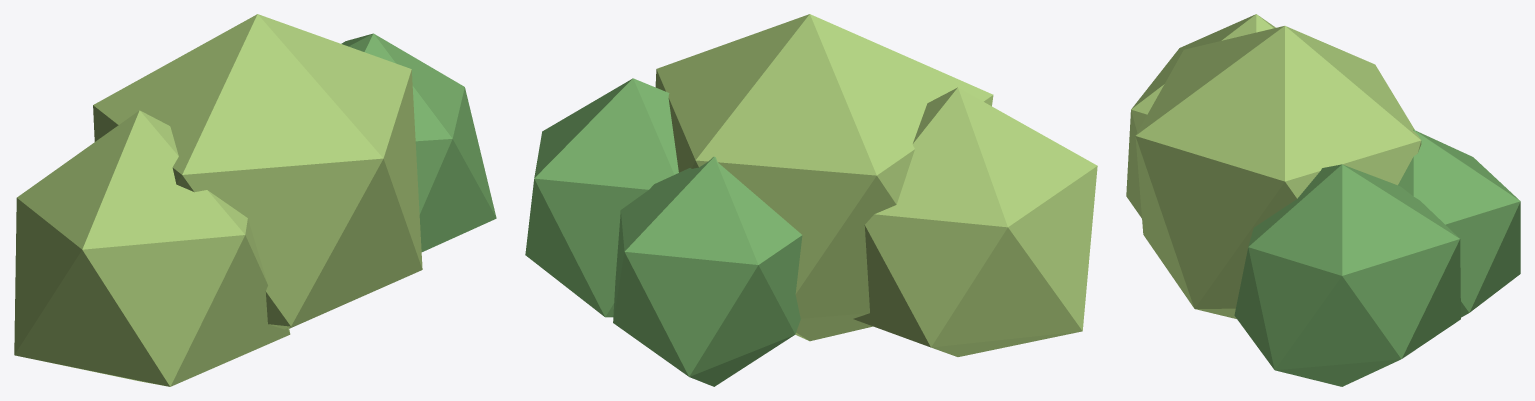
Rendered from bush.glb.
3 renders of one model, left to right at view 1: azimuth 30°, elevation 25°; view 2: azimuth 150°, elevation 25°; view 3: azimuth 270°, elevation 25°, orthographic. The views are drawn at different scales.
Parts seen in each view (by area): view 1: bush; view 2: bush; view 3: bush.
Part boxes in pixels (x1,y1,x2,y2): bush: [14, 14, 496, 386]; bush: [525, 14, 1097, 386]; bush: [1126, 14, 1520, 386].
Size of the model in its own units: 1.86 by 1.18 by 1.38.
